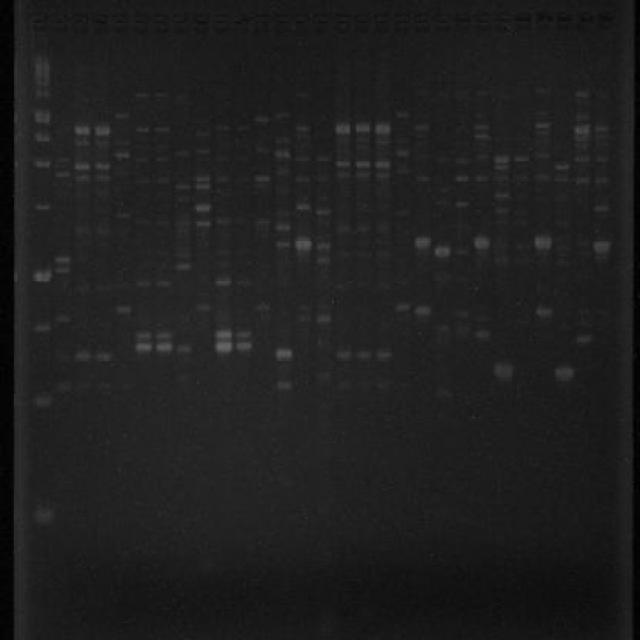B: (492, 360, 514, 382), (434, 323, 454, 343), (553, 364, 575, 382), (453, 322, 473, 340), (592, 238, 612, 255), (94, 279, 115, 295), (435, 384, 453, 402), (294, 236, 314, 252), (72, 280, 92, 296), (432, 243, 450, 260), (534, 234, 552, 250), (472, 234, 490, 250), (414, 234, 432, 250), (312, 172, 334, 185), (274, 346, 294, 360), (94, 123, 111, 139), (73, 123, 92, 137), (174, 260, 193, 274), (453, 306, 472, 320), (535, 306, 554, 320), (214, 340, 233, 354), (134, 341, 154, 354), (73, 349, 93, 362), (376, 220, 392, 236), (354, 120, 372, 134), (214, 120, 232, 134), (334, 122, 352, 136), (374, 122, 392, 136), (254, 143, 272, 157), (335, 222, 353, 236), (135, 216, 154, 229), (154, 329, 173, 342), (235, 341, 254, 354), (155, 341, 174, 354), (512, 170, 532, 182), (94, 350, 114, 362), (274, 162, 291, 176), (175, 342, 192, 356), (254, 112, 272, 125), (294, 201, 312, 214), (194, 201, 212, 214), (355, 222, 373, 235), (474, 328, 492, 341), (134, 329, 152, 342), (192, 128, 211, 140), (552, 160, 571, 172), (573, 174, 592, 186), (576, 332, 592, 346), (112, 210, 132, 221), (214, 154, 232, 166), (394, 164, 412, 176), (194, 218, 212, 230), (314, 254, 332, 266), (55, 380, 73, 392), (473, 88, 492, 99), (573, 88, 592, 99), (553, 172, 572, 183), (453, 246, 472, 257), (214, 328, 233, 339), (374, 158, 390, 171), (276, 379, 292, 392), (296, 312, 312, 325), (134, 88, 151, 100), (274, 134, 291, 146), (574, 140, 591, 152), (274, 148, 291, 160), (94, 160, 111, 172), (114, 304, 134, 314), (153, 142, 173, 152), (574, 111, 592, 122), (534, 119, 552, 130), (414, 121, 432, 132), (214, 173, 232, 184), (294, 173, 312, 184), (134, 176, 152, 187), (492, 206, 510, 217), (154, 216, 172, 227), (214, 276, 232, 287), (355, 350, 373, 361), (335, 350, 353, 361), (494, 152, 509, 165), (316, 240, 332, 252), (56, 314, 72, 326), (112, 138, 131, 148), (294, 123, 311, 134), (194, 146, 211, 157), (294, 153, 311, 164), (454, 172, 471, 183), (255, 302, 272, 313), (394, 302, 411, 313), (374, 136, 392, 146), (134, 142, 152, 152), (174, 148, 192, 158), (314, 152, 332, 162), (472, 153, 492, 162), (414, 172, 432, 182), (174, 182, 192, 192), (274, 222, 292, 232), (54, 254, 72, 264), (154, 278, 172, 288), (414, 306, 432, 316), (294, 302, 312, 312), (514, 152, 530, 163), (54, 169, 70, 180), (316, 207, 332, 218), (73, 138, 92, 147), (112, 168, 131, 177), (574, 124, 591, 134), (593, 154, 610, 164), (54, 154, 71, 164), (74, 162, 91, 172), (194, 182, 211, 192), (196, 302, 213, 312), (336, 158, 350, 170), (317, 313, 332, 324), (274, 111, 292, 120), (134, 157, 152, 166), (354, 170, 372, 179), (374, 171, 392, 180), (394, 208, 412, 217), (214, 217, 232, 226), (492, 217, 510, 226), (375, 351, 393, 360), (154, 154, 172, 163), (394, 148, 410, 158), (136, 278, 152, 288), (534, 86, 551, 95), (394, 110, 411, 119), (113, 111, 130, 120), (594, 124, 611, 133), (113, 151, 130, 160), (574, 154, 591, 163), (453, 157, 470, 166), (74, 173, 91, 182), (94, 173, 111, 182), (494, 173, 511, 182), (473, 174, 490, 183), (194, 174, 211, 183), (254, 174, 271, 183), (593, 204, 610, 213), (254, 217, 271, 226), (235, 330, 252, 339), (237, 278, 254, 287), (93, 139, 112, 147), (153, 176, 172, 184), (534, 151, 550, 160), (275, 240, 291, 249), (54, 266, 72, 274), (294, 89, 311, 97), (594, 90, 611, 98), (153, 90, 170, 98), (154, 126, 171, 134), (474, 132, 491, 140), (534, 172, 551, 180), (593, 176, 610, 184), (493, 192, 510, 200), (454, 200, 471, 208), (134, 125, 150, 133), (354, 160, 370, 168), (494, 164, 510, 172), (336, 170, 352, 178), (474, 122, 489, 130), (574, 136, 591, 141)
L: (23, 5, 620, 48)
M: (26, 40, 56, 522)
P: (35, 56, 53, 89), (31, 263, 54, 285), (32, 106, 52, 125), (32, 318, 52, 336), (32, 506, 54, 522), (32, 127, 52, 144), (32, 154, 52, 171), (32, 197, 52, 214), (32, 394, 54, 409), (34, 88, 52, 101)
Pc: (230, 11, 250, 34), (128, 12, 150, 32), (191, 12, 211, 34), (576, 9, 596, 31), (28, 12, 46, 36), (353, 12, 372, 34), (212, 10, 230, 33), (70, 12, 90, 32), (90, 13, 110, 33), (150, 13, 170, 33), (332, 12, 352, 32), (172, 12, 190, 34), (493, 12, 515, 30), (253, 12, 272, 32), (272, 12, 291, 32), (292, 12, 311, 32), (373, 12, 392, 32), (433, 13, 453, 32), (454, 12, 474, 31), (413, 12, 432, 31), (50, 12, 68, 32), (312, 12, 330, 32), (596, 10, 616, 28), (535, 12, 554, 30), (555, 10, 574, 28), (394, 13, 411, 33), (110, 13, 126, 33), (516, 12, 533, 30), (476, 12, 490, 30)
